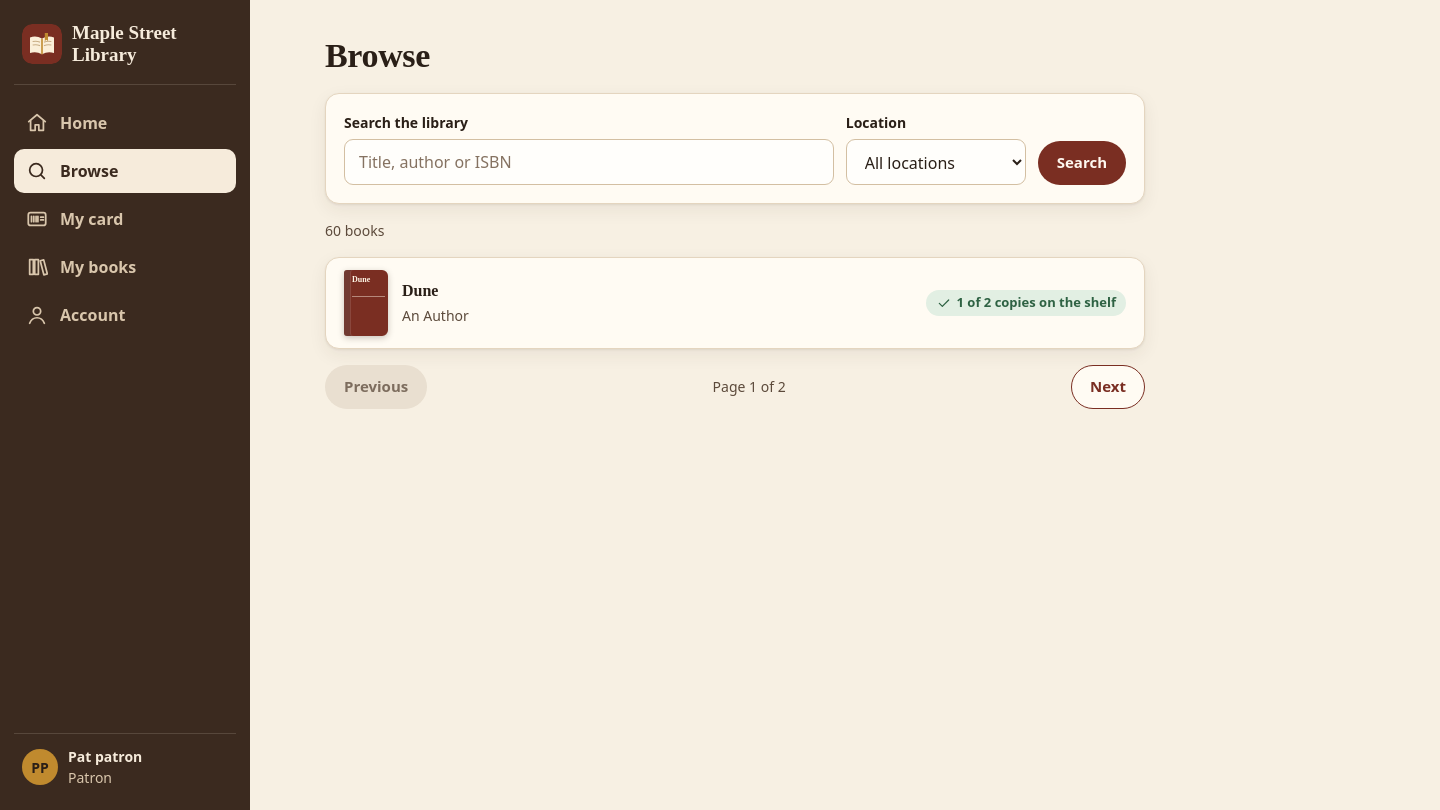
Browse › pages through results
The width and height of the screenshot is (1440, 810).
What coordinates should you click on to do the following:
click the button "Next"
I would click on:
 (1108, 387)
Its box is [1071, 365, 1145, 409].
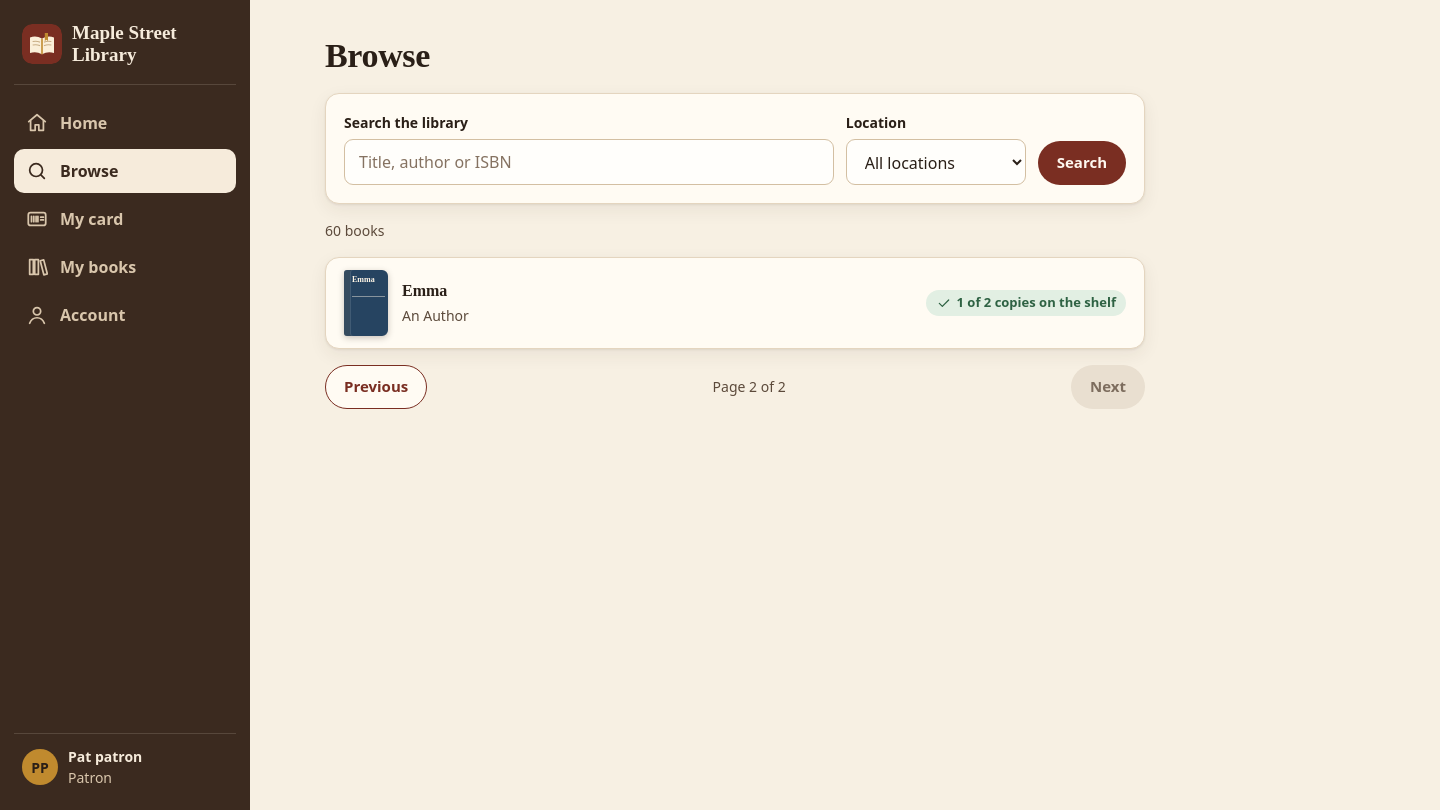
Expected: the link "Emma Emma An Author 1 of 2 copies on the shelf" is shown, [326, 258, 1144, 348]
